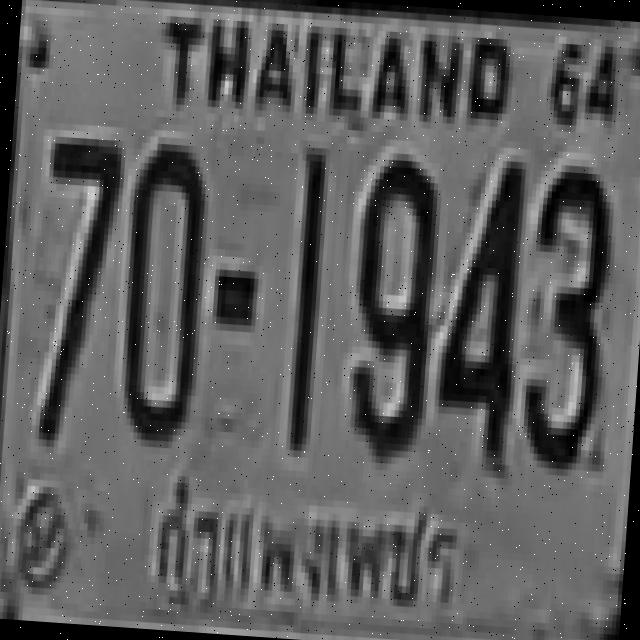0: (114, 135, 208, 436)
1: (282, 147, 326, 451)
3: (518, 156, 612, 464)
4: (431, 150, 526, 458)
7: (31, 129, 122, 443)
9: (344, 152, 439, 458)
KamphaengPhet: (143, 468, 465, 632)
